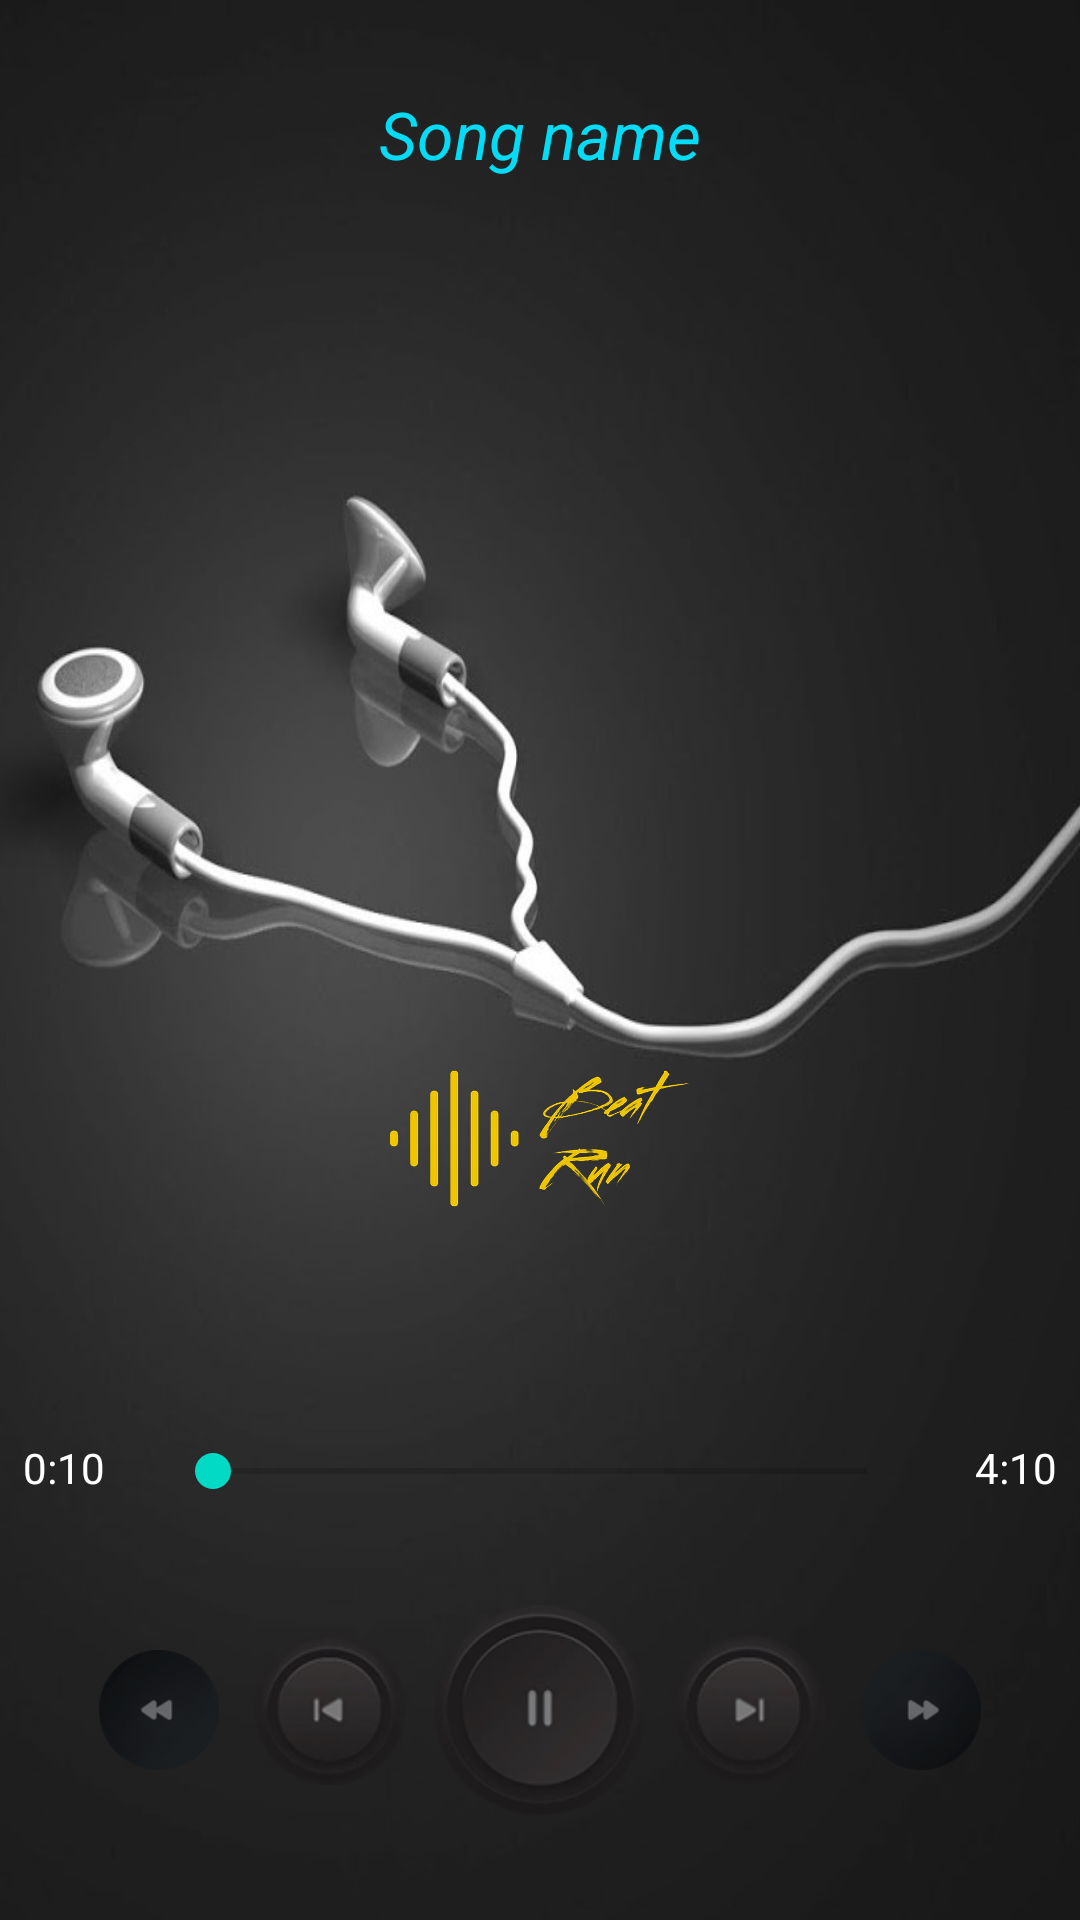

Named icons in this screenshot (1080px×1920px) and their bounding boxes, (x1, y1, x2, y2):
chr back: (141, 1700, 172, 1720)
chr forw: (908, 1700, 939, 1720)
chr next: (702, 1648, 796, 1722)
chr pause: (476, 1615, 611, 1726)
chr prev: (286, 1658, 372, 1722)
